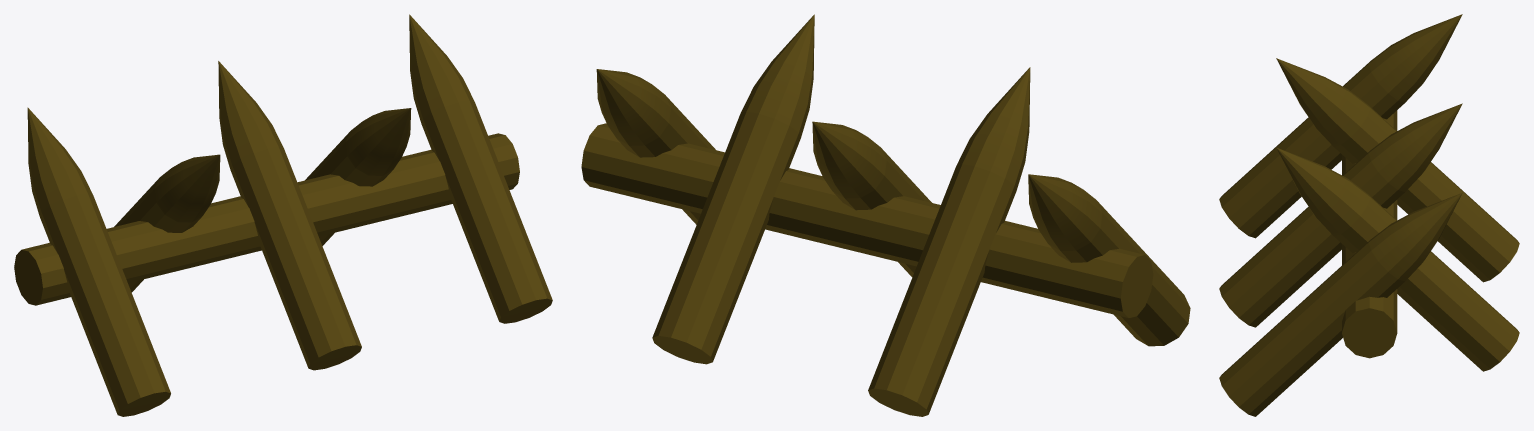
Rendered from Peaks_Wood.fbx.
3 views of the same model, side by side, from view 1: azimuth 30°, elevation 25°; view 2: azimuth 150°, elevation 25°; view 3: azimuth 270°, elevation 25° (orthographic). The views are drawn at different scales.
Parts seen in each view (by area): view 1: Peaks_Full; view 2: Peaks_Full; view 3: Peaks_Full.
Part boxes in pixels (left/top/right/bottom): Peaks_Full: left=14, top=14, right=552, bottom=416; Peaks_Full: left=581, top=14, right=1190, bottom=416; Peaks_Full: left=1219, top=14, right=1519, bottom=416.
Size of the model in its own units: 5 by 2.31 by 2.85.
